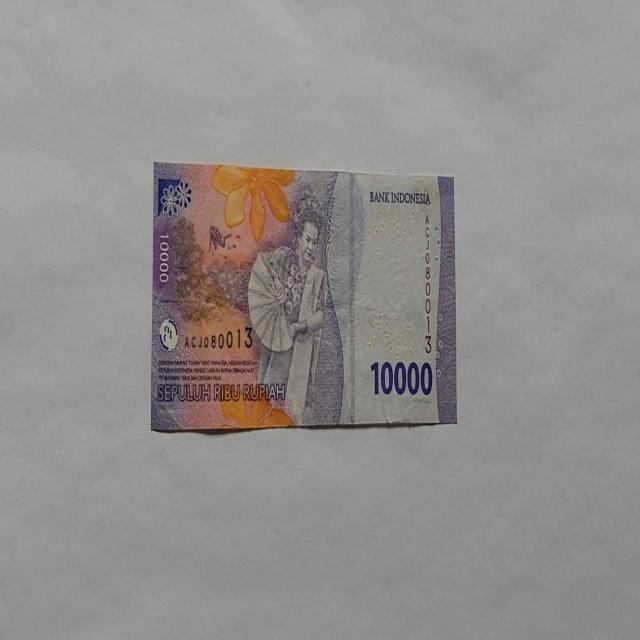sepuluh ribu rupiah: (150, 162, 457, 433)
